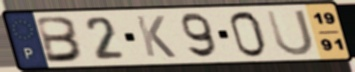0: (227, 9, 269, 58)
2: (84, 16, 128, 61)
9: (180, 11, 219, 59)
B: (34, 15, 87, 65)
K: (133, 14, 179, 59)
U: (263, 8, 317, 58)
